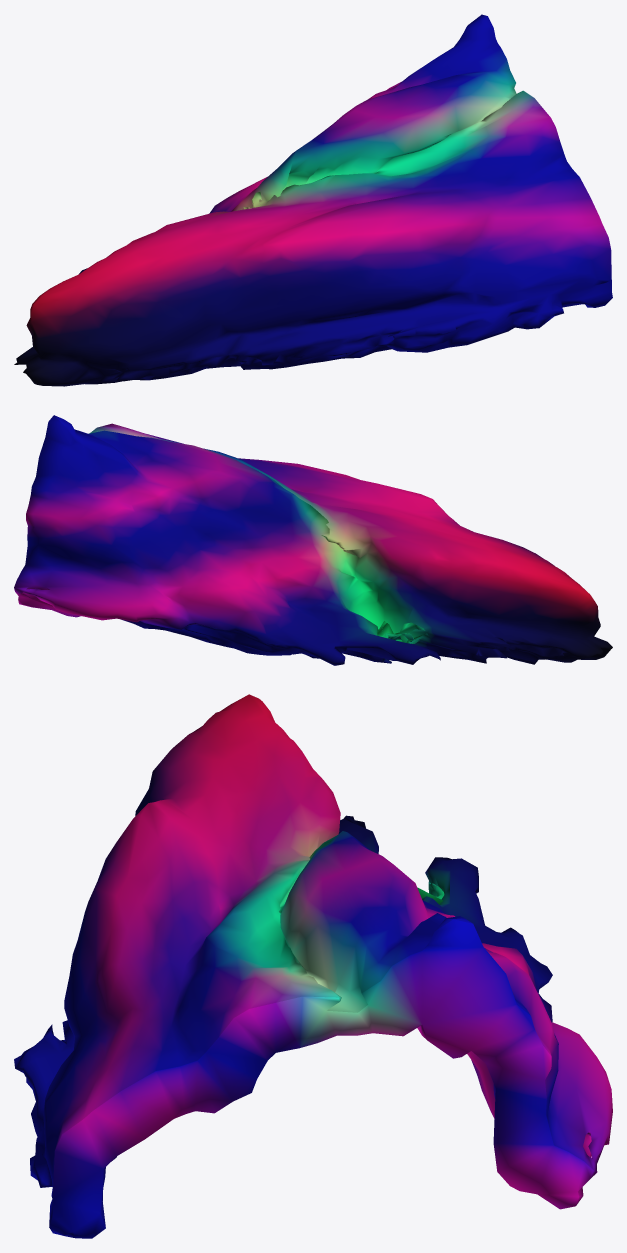
File: copper_vein-u4-cracked-lod0.gltf
The picture shows the model from 3 angles, top to bottom: view 1: azimuth 30°, elevation 25°; view 2: azimuth 150°, elevation 25°; view 3: azimuth 270°, elevation 25°; orthographic projection. The views are drawn at different scales.
Parts seen in each view (by area): view 1: copper_vein-u4-cracked-lod0; view 2: copper_vein-u4-cracked-lod0; view 3: copper_vein-u4-cracked-lod0.
Part boxes in pixels (x1,y1,x2,y2): copper_vein-u4-cracked-lod0: (14, 14, 612, 386); copper_vein-u4-cracked-lod0: (14, 415, 612, 665); copper_vein-u4-cracked-lod0: (14, 694, 612, 1238).
Bounding box in the file's own units: 1.24 × 0.4371 × 0.7429.
